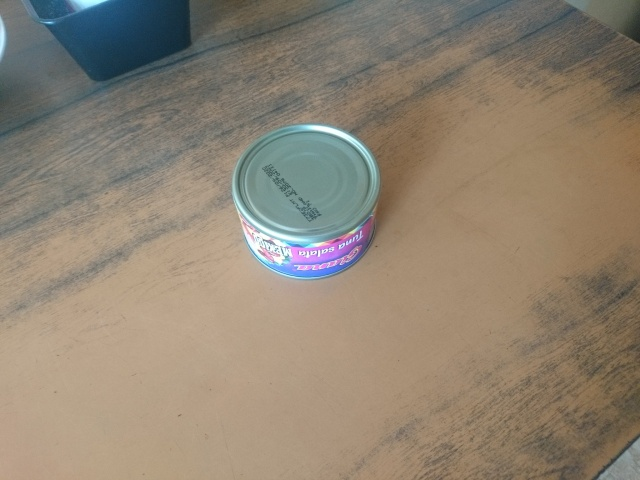Giana Tuna Salad Mexico 185g: (229, 121, 384, 282)
